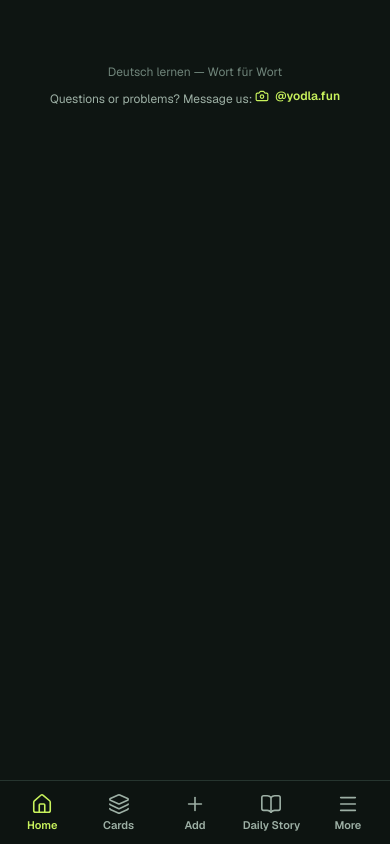
Test case: Layout: word_search › shows the Search link (desktop menu; the phone sheet after tapping More) while the feature is on — and while /me loads
Click the button "More" at (348, 812), box [310,781,386,843]
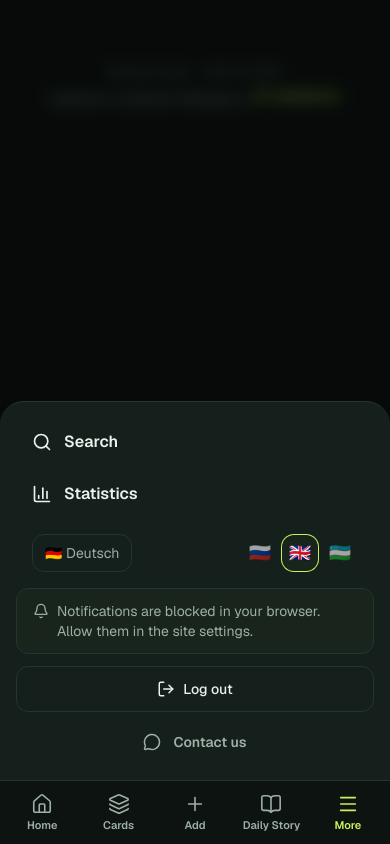
Result: the number of links "Search" is 2
